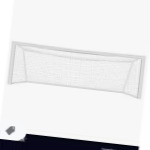goals: (7, 39, 147, 101)
